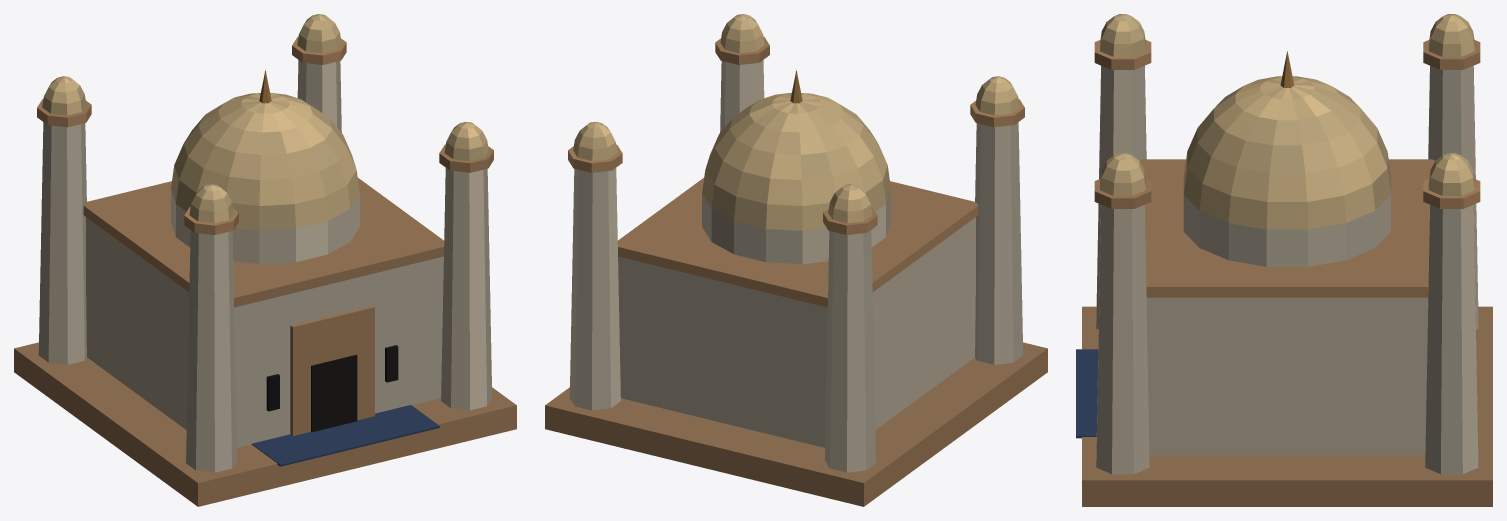
File: sun_seat.glb
The picture shows the model from 3 angles, left to right: view 1: azimuth 30°, elevation 25°; view 2: azimuth 150°, elevation 25°; view 3: azimuth 270°, elevation 25°; orthographic projection. The views are drawn at different scales.
Visible parts, largest first — view 1: sun_seat; view 2: sun_seat; view 3: sun_seat.
Boxes of the visible parts, bbox=[...] form: sun_seat: bbox=[14, 14, 516, 506]; sun_seat: bbox=[545, 14, 1047, 506]; sun_seat: bbox=[1076, 14, 1492, 506].
Size of the model in its own units: 14 by 13.9 by 14.2.
2 materials, 2 textured.
